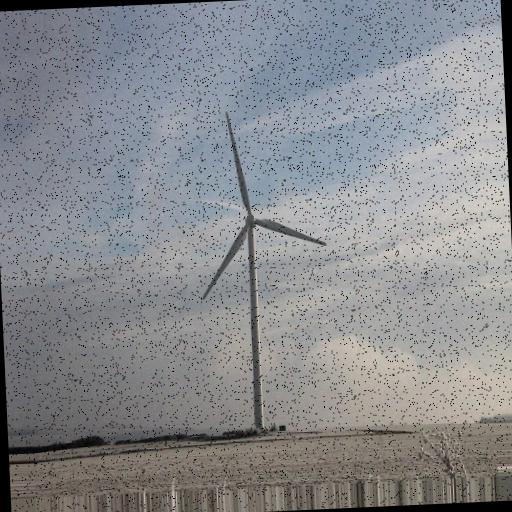wind turbine: (198, 110, 330, 428)
